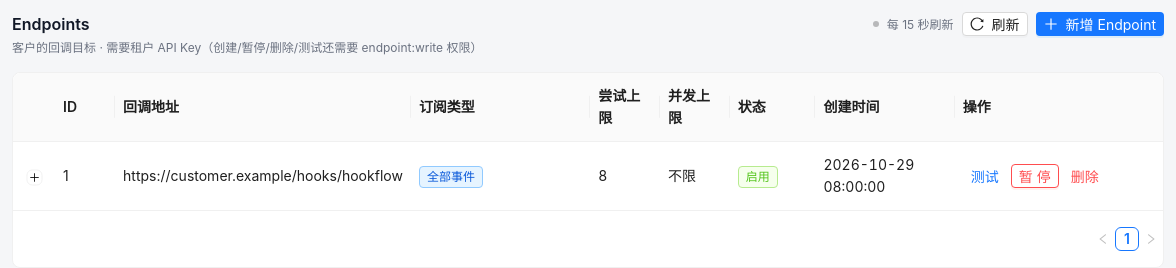
Test: EndpointsPage › warns what pausing cancels before doing it
Click the button "暂 停" at (1035, 176), box [1011, 164, 1059, 188]
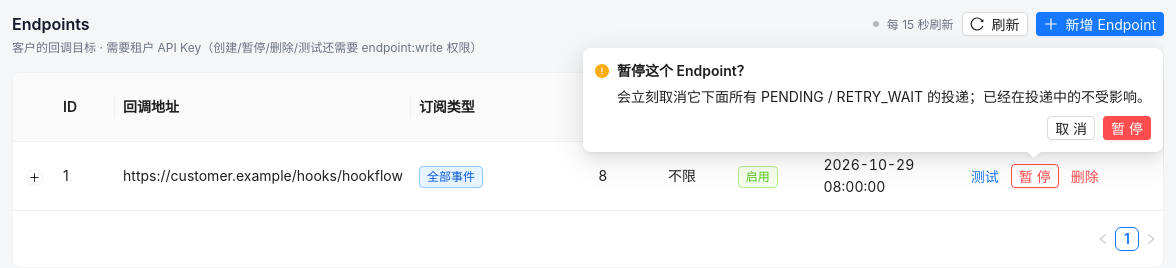
Check: the text "暂停这个 Endpoint？" is shown, box [617, 62, 751, 79]
Check: the text "会立刻取消它下面所有 PENDING / RETRY_WAIT 的投递；已经在投递中的不受影响。" is shown, box [617, 86, 1151, 108]
